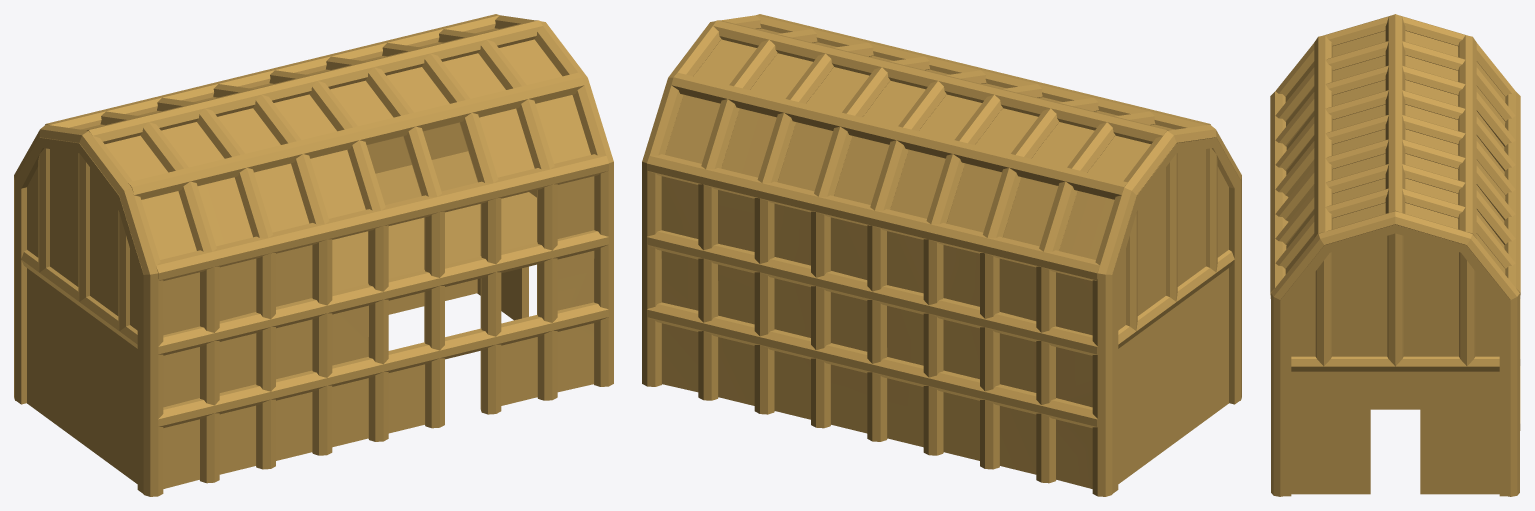
Rendered from longhouse.gltf.
3 renders of one model, left to right at view 1: azimuth 30°, elevation 25°; view 2: azimuth 150°, elevation 25°; view 3: azimuth 270°, elevation 25°, orthographic. The views are drawn at different scales.
Parts seen in each view (by area): view 1: longhouse.001; view 2: longhouse.001; view 3: longhouse.001.
Part boxes in pixels (bbox=[...]): longhouse.001: bbox=[14, 14, 613, 496]; longhouse.001: bbox=[642, 14, 1241, 496]; longhouse.001: bbox=[1270, 14, 1520, 496].
Size of the model in its own units: 25 by 16.06 by 12.91.
